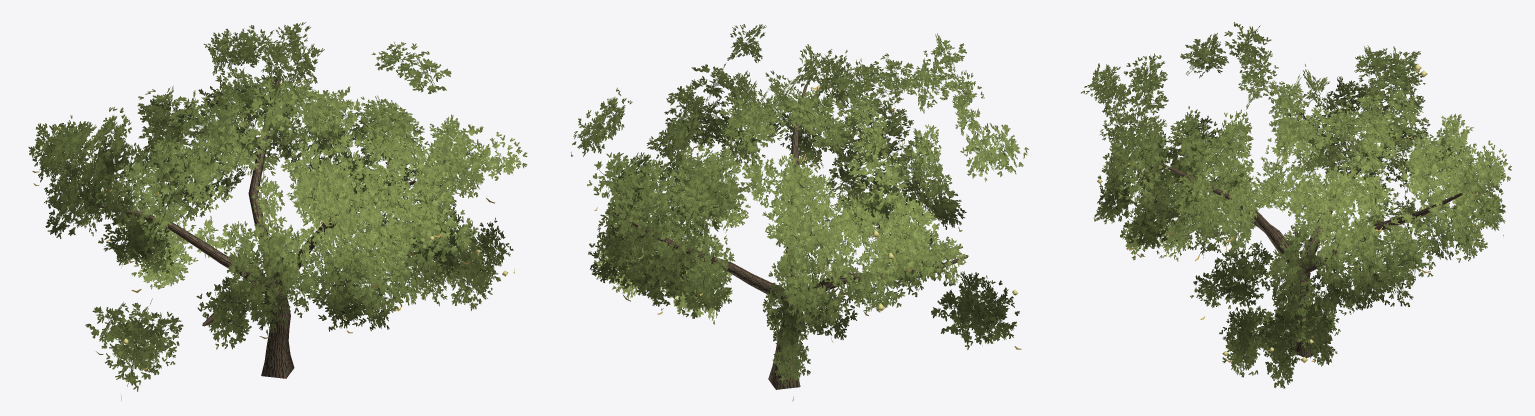
Rendered from adult-a.lod1.glb.
3 renders of one model, left to right at view 1: azimuth 30°, elevation 25°; view 2: azimuth 150°, elevation 25°; view 3: azimuth 270°, elevation 25°, orthographic. The views are drawn at different scales.
Parts seen in each view (by area): view 1: foliage, bark; view 2: foliage, bark; view 3: foliage, bark.
Part boxes in pixels (x1,y1,x2,y2): foliage: (28, 22, 527, 391); bark: (95, 69, 415, 378); foliage: (572, 24, 1028, 386); bark: (614, 84, 968, 389); foliage: (1081, 22, 1511, 388); bark: (1161, 141, 1462, 358).
Size of the model in its own units: 10.73 by 7.5 by 11.11.
Materials: 4 (2 with a texture image).
